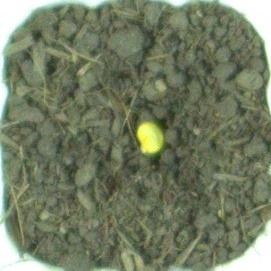pepper seed: (52, 43, 219, 198)
